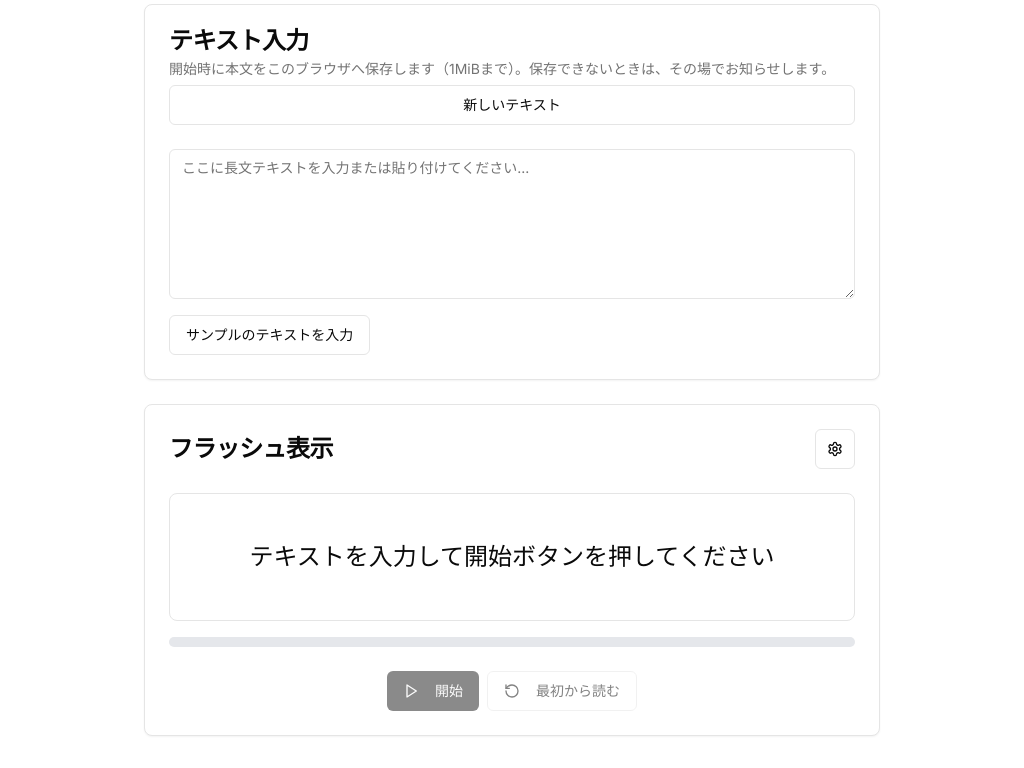
Test case: EPUB取り込みから続きからまでの統合受入 › 設定の読取拒否では変更しても既存値を上書きせず、再読込で復元する
The width and height of the screenshot is (1024, 768).
(page scrolled)
Click the button named "読書設定" at (835, 449), box [815,429,855,469]
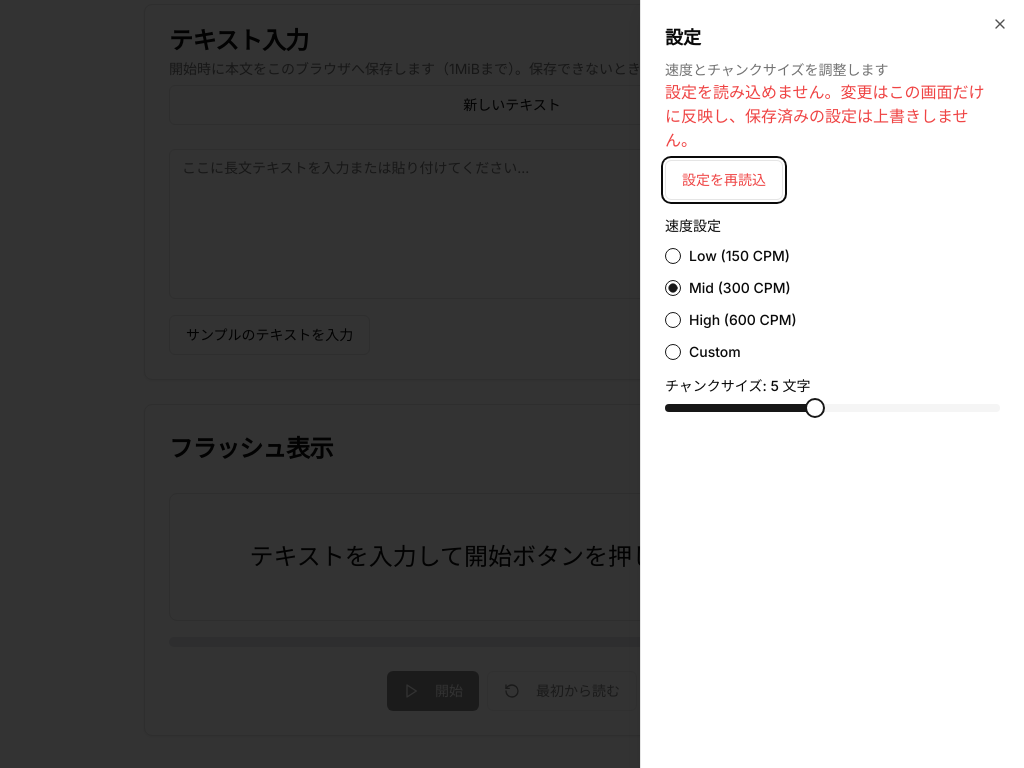
Click the radio button named "High (600 CPM)" next to "High (600 CPM)" at (673, 320), box [665,312,681,328]
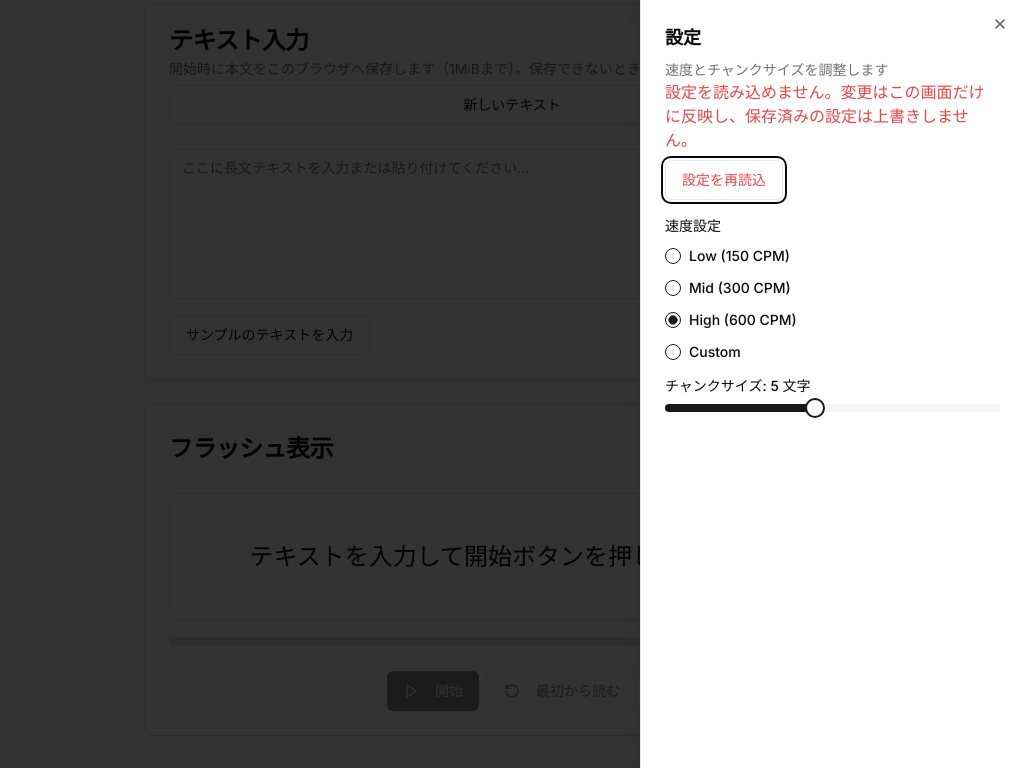
Expected: the message shows "設定を読み込めません", [665,82,984,150]
Click the button "設定を再読込" at (724, 180), box [665,160,783,200]
(page scrolled)
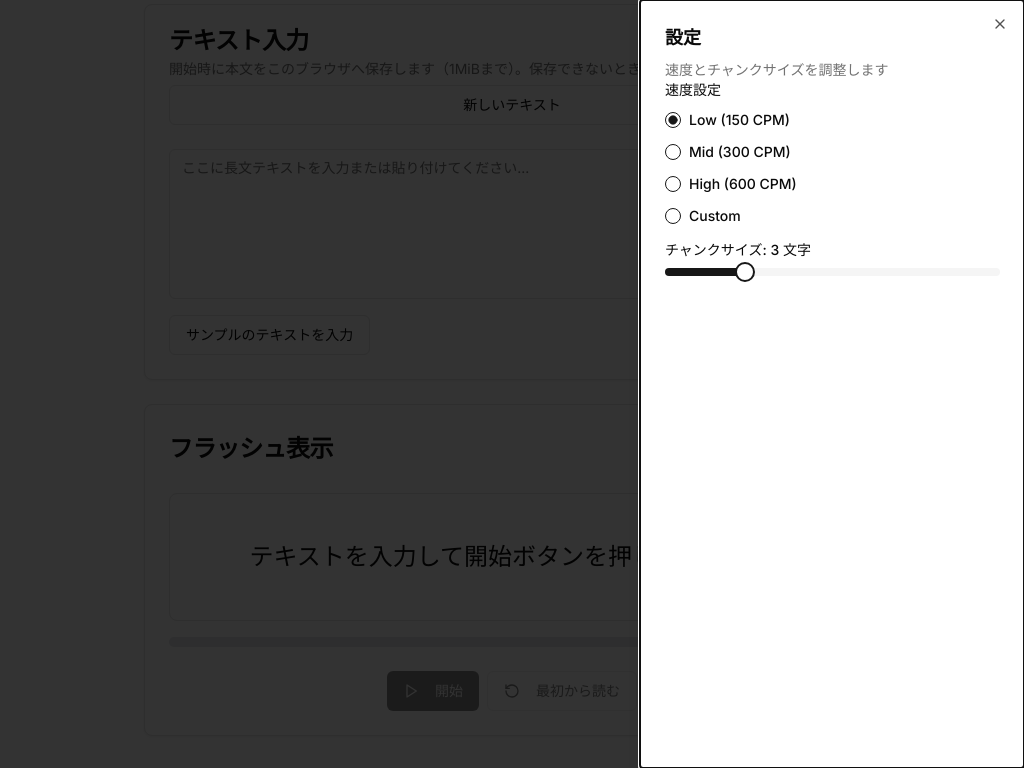
Expected: the heading "チャンクサイズ: 3 文字" is shown, [665,241,811,258]
